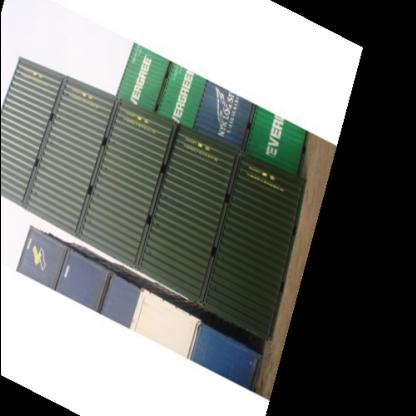Damage: (136, 247, 153, 264), (94, 162, 113, 176), (88, 188, 104, 204)
